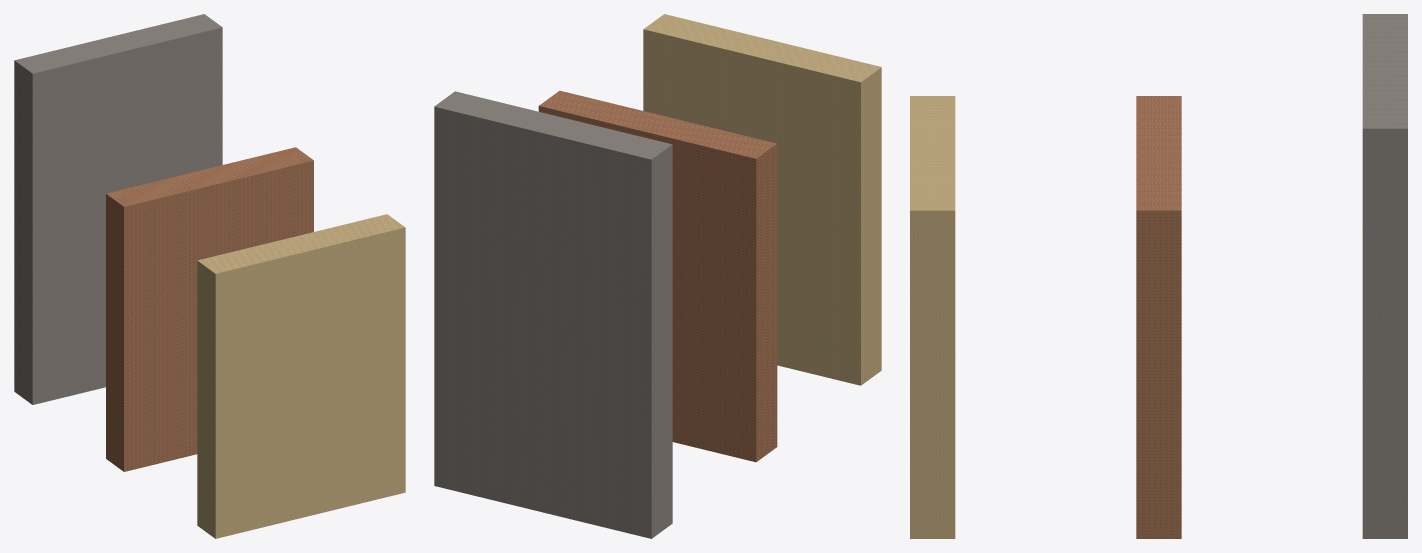
Rendered from 金色福园_0.glb.
3 renders of one model, left to right at view 1: azimuth 30°, elevation 25°; view 2: azimuth 150°, elevation 25°; view 3: azimuth 270°, elevation 25°, orthographic. The views are drawn at different scales.
Parts seen in each view (by area): view 1: root (×3); view 2: root (×3); view 3: root (×3).
Boxes of the visible parts, left/top/right/bottom form: root (×3): left=14, top=14, right=405, bottom=538; root (×3): left=434, top=14, right=881, bottom=538; root (×3): left=910, top=14, right=1407, bottom=538.
Size of the model in its own units: 60 by 100 by 110.
3 materials, 3 textured.
